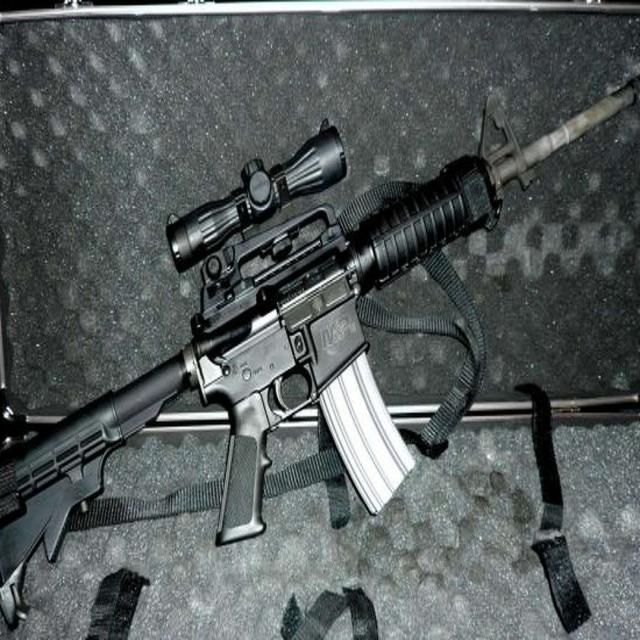Rifle: (0, 77, 640, 631)
